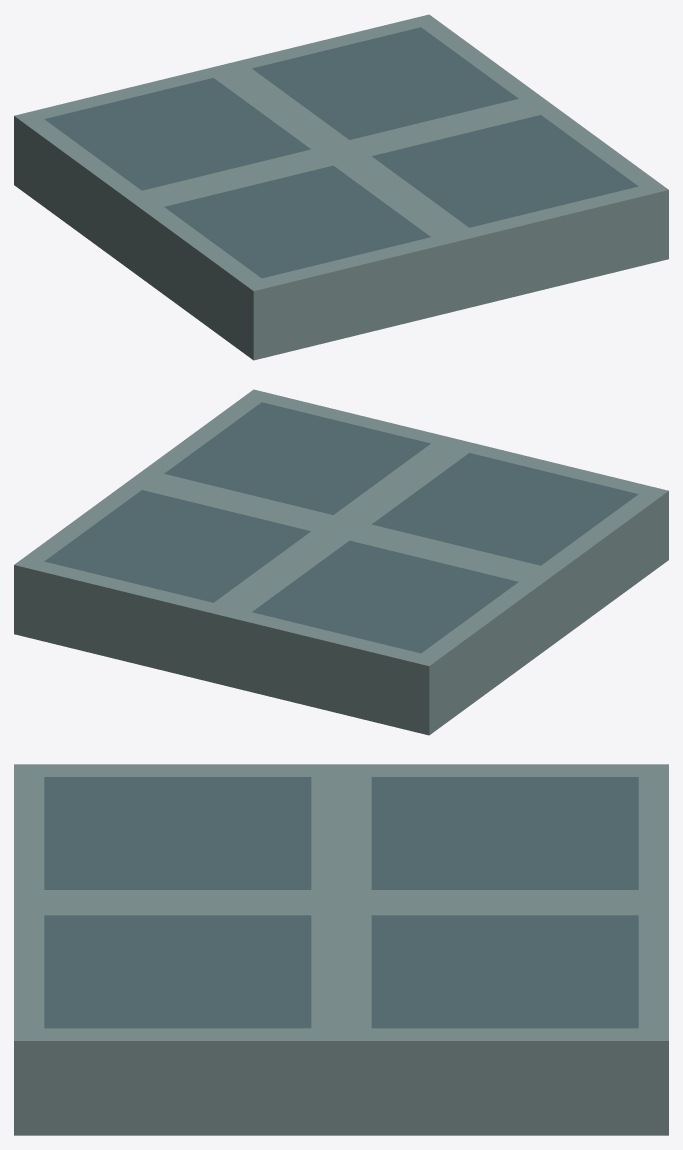
File: Floor_cell.fbx
3 views of the same model, one above another, from view 1: azimuth 30°, elevation 25°; view 2: azimuth 150°, elevation 25°; view 3: azimuth 270°, elevation 25° (orthographic). The views are drawn at different scales.
Visible parts, largest first — view 1: Floor_cell; view 2: Floor_cell; view 3: Floor_cell.
Part boxes in pixels (<box>): Floor_cell: <box>14,14,668,360</box>; Floor_cell: <box>14,389,668,735</box>; Floor_cell: <box>14,764,668,1135</box>.
Bounding box in the file's own units: 200 × 31.89 × 200.
